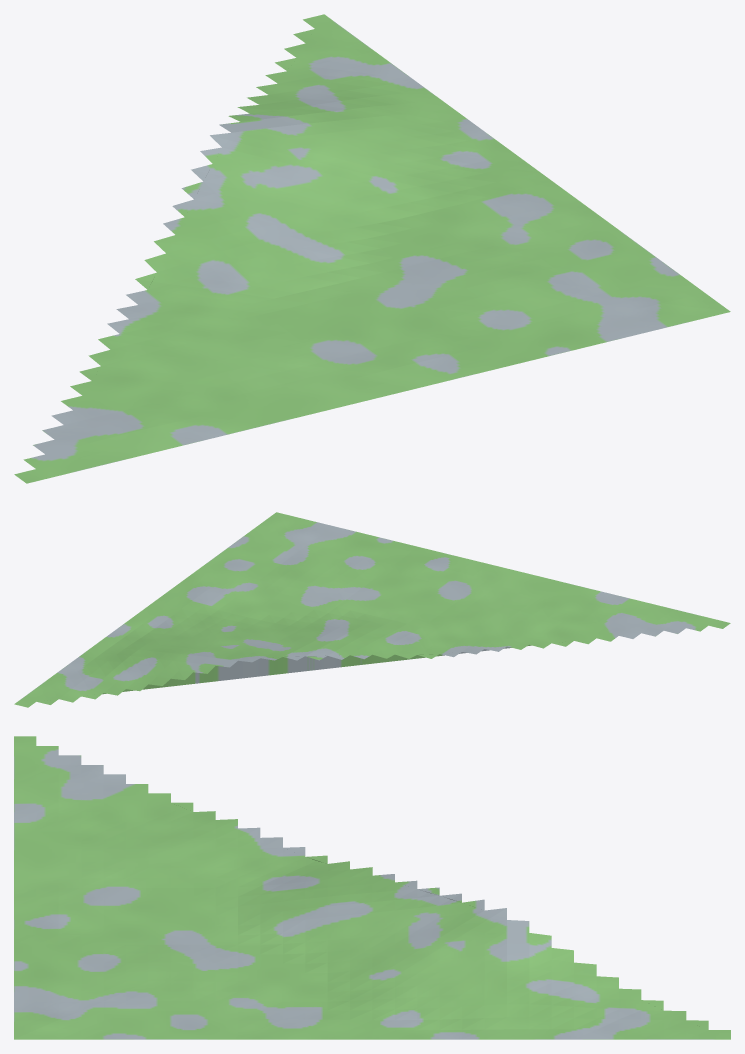
The model's file is Grass_RockyGround_05_NE.obj.
3 renders of one model, top to bottom at view 1: azimuth 30°, elevation 25°; view 2: azimuth 150°, elevation 25°; view 3: azimuth 270°, elevation 25°, orthographic. The views are drawn at different scales.
Bounding box in the file's own units: 10 × 0.4213 × 10.
1 material, 1 textured.
